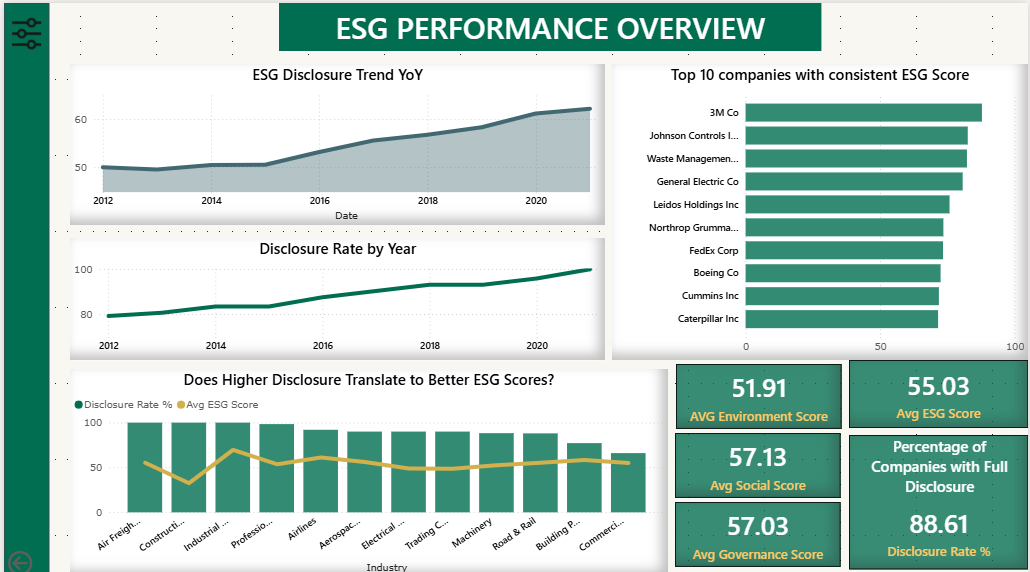

What the dashboard file says about the page in this screenshot:
{"tool":"powerbi","page":{"name":"Performance","canvas":[1280,720],"ordinal":0},"visuals":[{"type":"areaChart","title":"ESG Disclosure Trend YoY","fields":{"Category":["ESG.Date"],"Y":["ESG.Avg ESG"]},"box":[82.3,76.2,669,201.1],"z":0},{"type":"card","fields":{"Values":["ESG.Avg ESG"]},"box":[1056,446.6,224,84.9],"z":1000},{"type":"clusteredBarChart","title":"Top 10 companies with consistent ESG Score","fields":{"Category":["ESG.Company Name"],"Y":["ESG.Avg ESG Score"]},"box":[759.7,76.5,520.3,370.1],"z":2000},{"type":"shape","box":[0,0,56.6,720],"z":3000},{"type":"textbox","box":[343.8,0,678.5,59.7],"z":4000},{"type":"actionButton","box":[0,0,56.6,76.3],"z":5000},{"type":"actionButton","box":[0,680.3,100.2,40.3],"z":8000},{"type":"lineChart","title":"Disclosure Rate by Year","fields":{"Y":["ESG.Disclosure Rate %"],"Category":["ESG.Date"]},"box":[82.1,293.6,669.2,153],"z":9000},{"type":"card","title":"Percentage of Companies with Full Disclosure","fields":{"Values":["ESG.Disclosure Rate %"]},"box":[1056,539.5,224.5,167.7],"z":10000},{"type":"lineStackedColumnComboChart","title":"Does Higher Disclosure Translate to Better ESG Scores?","fields":{"Y":["ESG.Disclosure Rate %"],"Category":["ESG.Industry"],"Y2":["ESG.Avg ESG Score"]},"box":[82.1,457.7,747.1,260.2],"z":11000},{"type":"card","fields":{"Values":["ESG.AVG Environment Score"]},"box":[840.3,450.8,207.3,80.7],"z":12000},{"type":"card","fields":{"Values":["ESG.Avg Social Score"]},"box":[839,537,207.3,80.7],"z":13000},{"type":"card","fields":{"Values":["ESG.Avg Governance Score"]},"box":[839,623.3,207.3,80.7],"z":14000}]}

Visuals, with their boxes in screenshot pixels (x1, y1, x2, y2), scaled from the page's 1280x720 canvas onto the 1030x572 screenshot:
"ESG Disclosure Trend YoY" areaChart: bbox=[66, 61, 605, 220]
card - ESG.Avg ESG: bbox=[850, 355, 1029, 422]
"Top 10 companies with consistent ESG Score" clusteredBarChart: bbox=[611, 61, 1029, 355]
shape: bbox=[0, 0, 46, 571]
textbox: bbox=[277, 0, 823, 47]
actionButton: bbox=[0, 0, 46, 61]
actionButton: bbox=[0, 540, 81, 571]
"Disclosure Rate by Year" lineChart: bbox=[66, 233, 605, 355]
"Percentage of Companies with Full Disclosure" card: bbox=[850, 429, 1029, 562]
"Does Higher Disclosure Translate to Better ESG Scores?" lineStackedColumnComboChart: bbox=[66, 364, 667, 570]
card - ESG.AVG Environment Score: bbox=[676, 358, 843, 422]
card - ESG.Avg Social Score: bbox=[675, 427, 842, 491]
card - ESG.Avg Governance Score: bbox=[675, 495, 842, 559]
